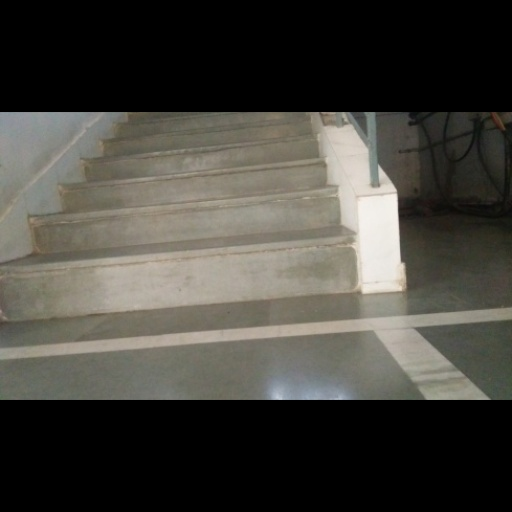Stairs: (0, 114, 357, 321)
